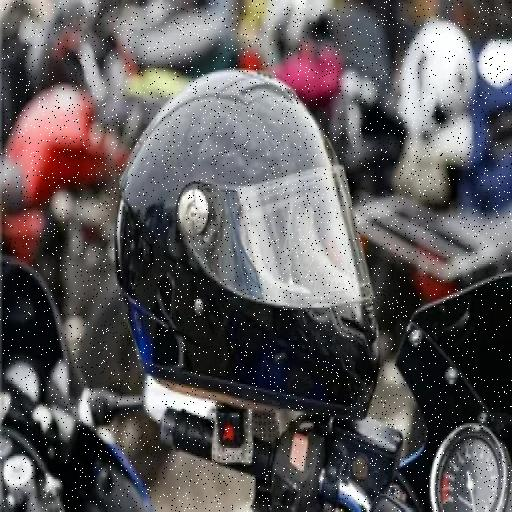Helmet: (105, 68, 383, 416)
